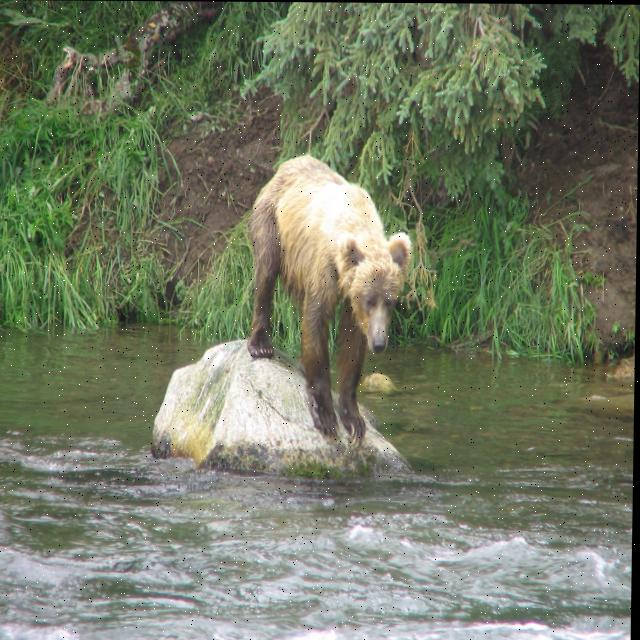bear face: (247, 153, 414, 448)
